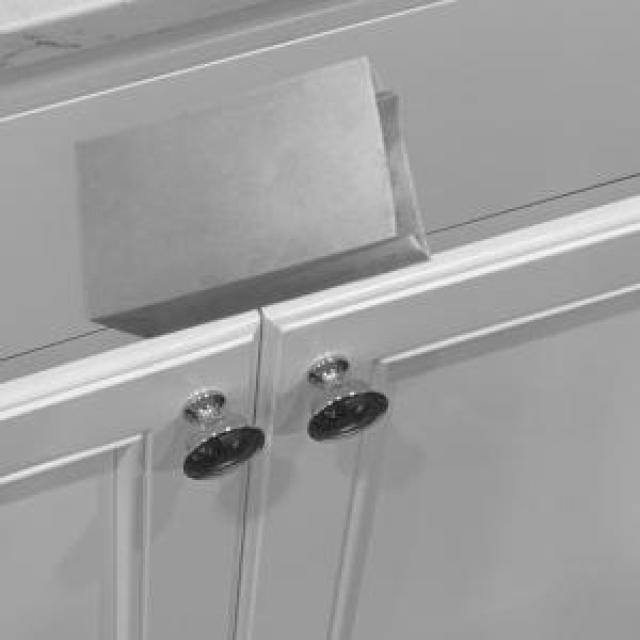paper: (70, 53, 427, 333)
